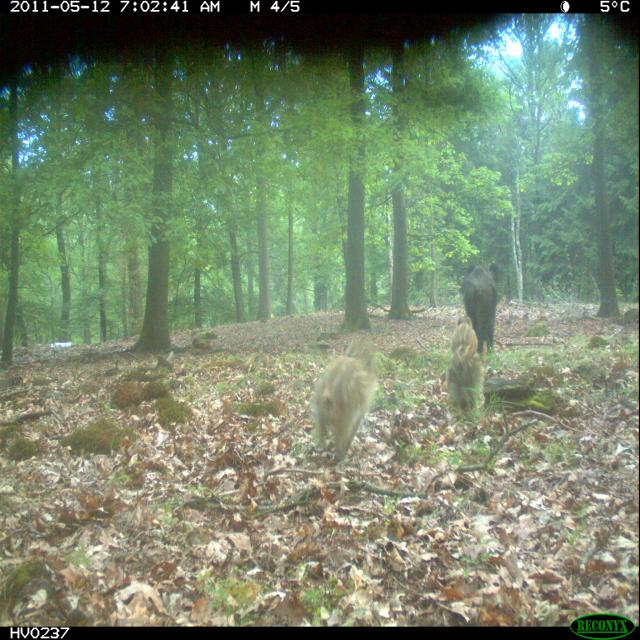boar: (294, 331, 390, 482), (451, 234, 512, 360), (434, 307, 498, 375)
